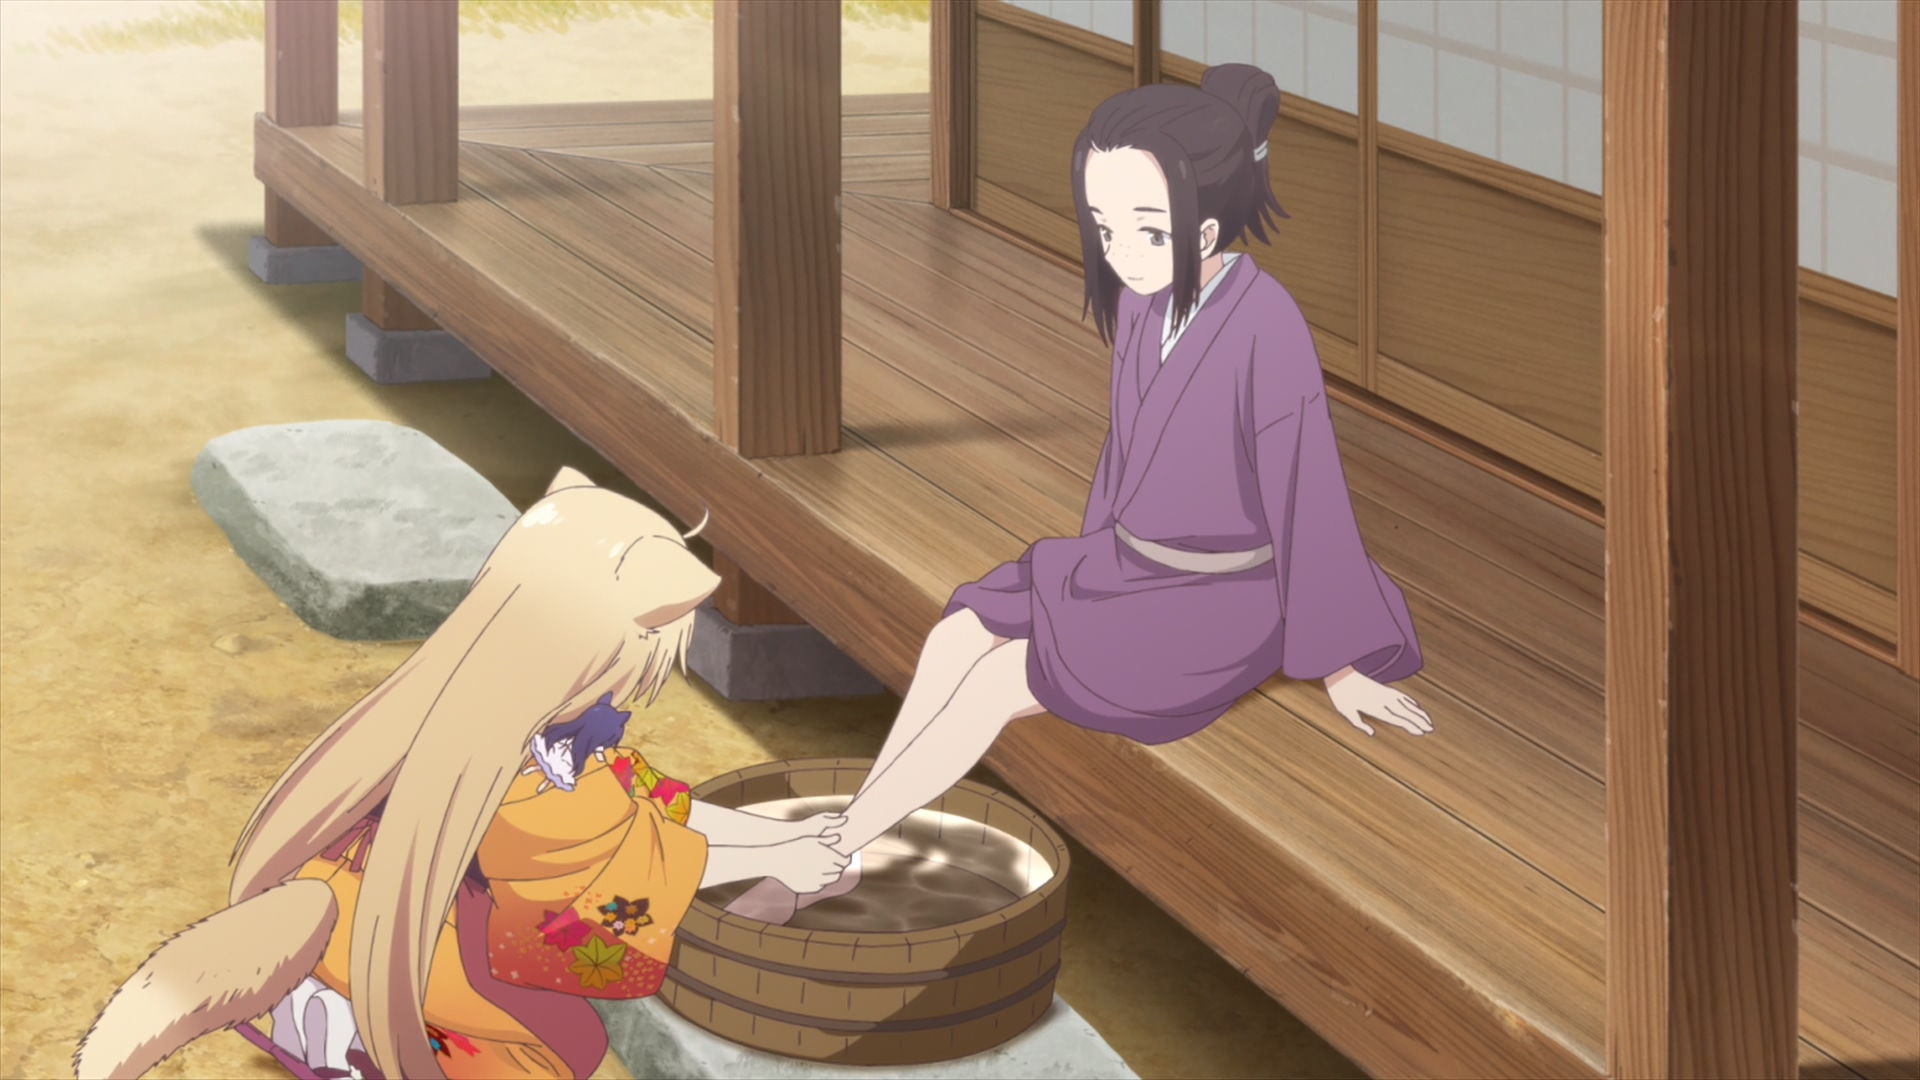其他: (720, 61, 1433, 930)
柚: (79, 469, 848, 1080)
皋: (522, 694, 633, 794)
